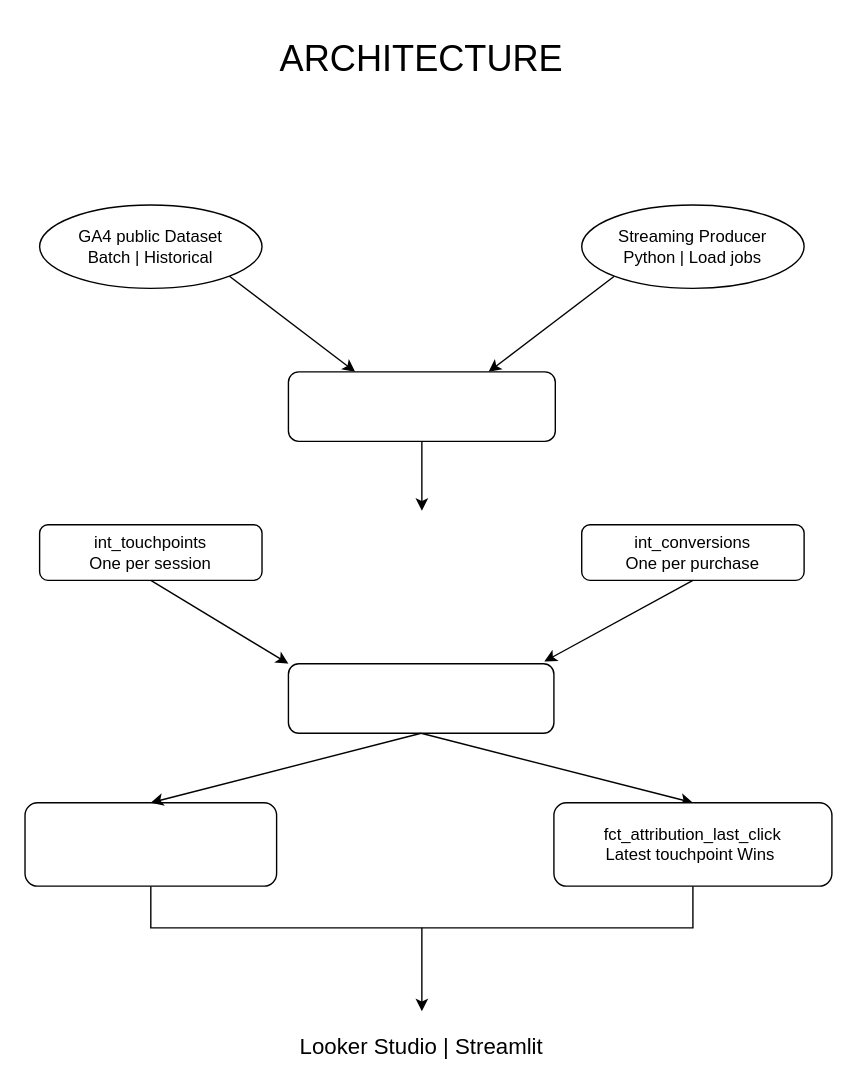
Some shapes in this 856 by 1090 pixel diagram are drawn without their labels. Each missing label, with the centre of its shape:
fact_attribution_first_click Earliest touchpoint Wins: [150,843]
int_comversion_paths 30 days lookback join: [420,697]
Stg_ga4_events Flatten | Union | Dedupe: [421,405]
